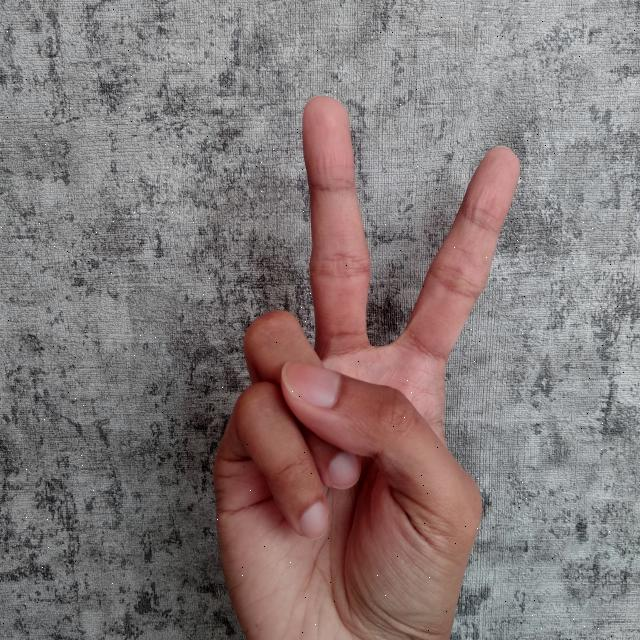V: (197, 89, 530, 640)
